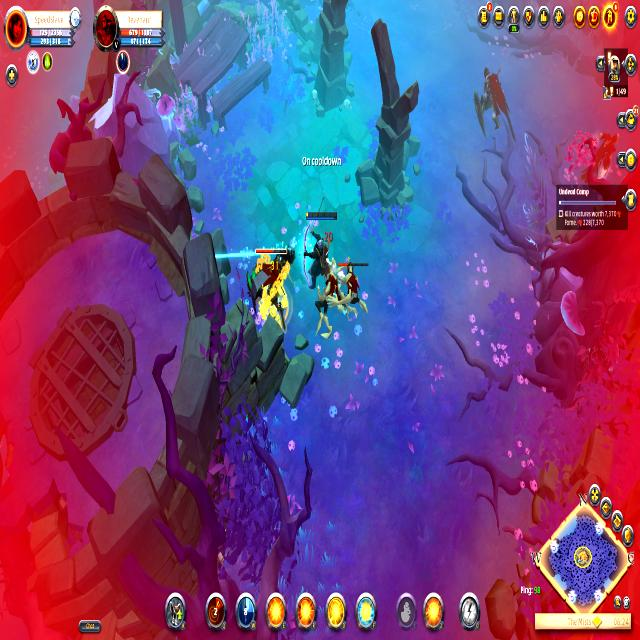ore: (472, 56, 520, 148), (253, 243, 294, 332), (577, 129, 620, 186), (335, 253, 371, 316)
red: (301, 204, 340, 296)
